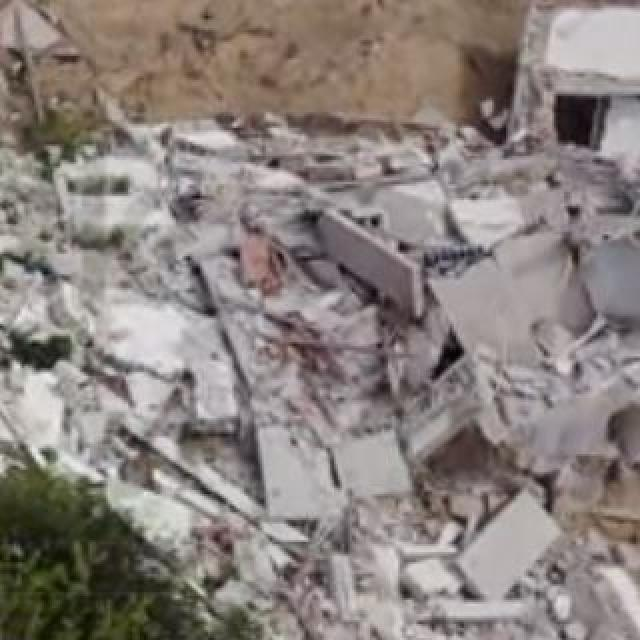collapsed_building: (2, 130, 638, 614)
